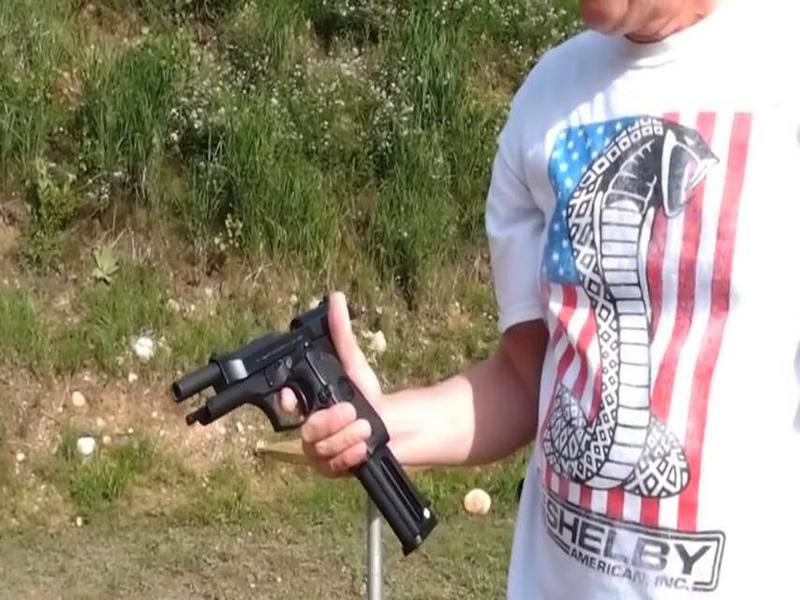Pistola: (163, 304, 404, 470)
